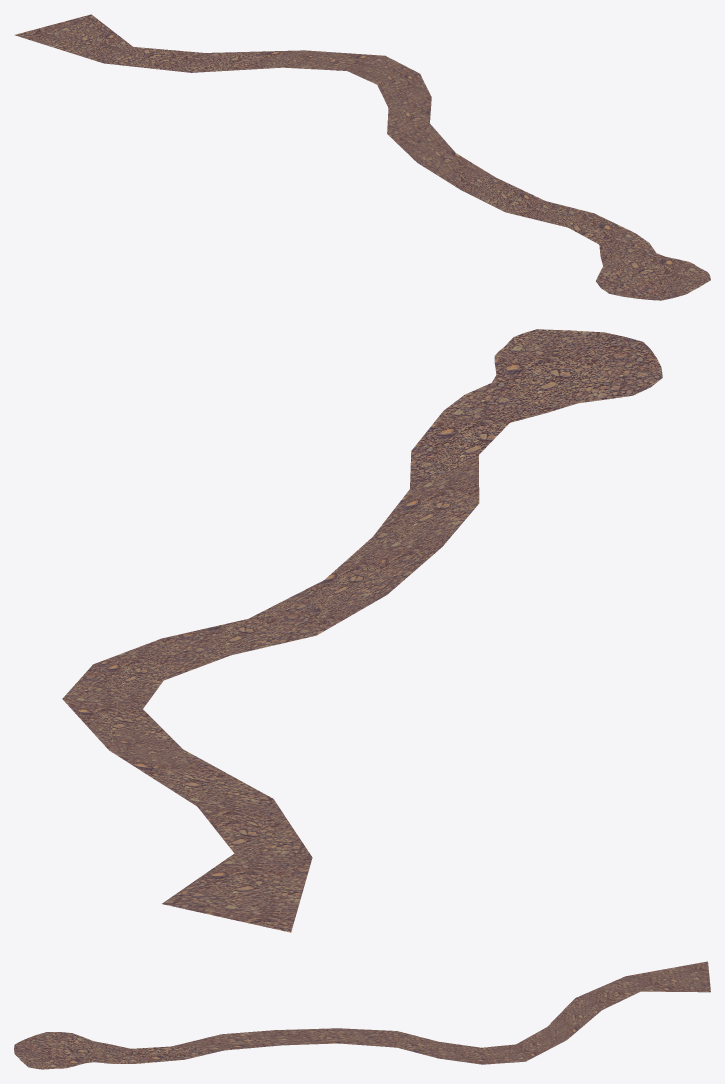
The model's file is path.obj.
3 views of the same model, one above another, from view 1: azimuth 30°, elevation 25°; view 2: azimuth 150°, elevation 25°; view 3: azimuth 270°, elevation 25° (orthographic). The views are drawn at different scales.
Bounding box in the file's own units: 10.68 × 0 × 29.07.
Materials: 1 (1 with a texture image).
